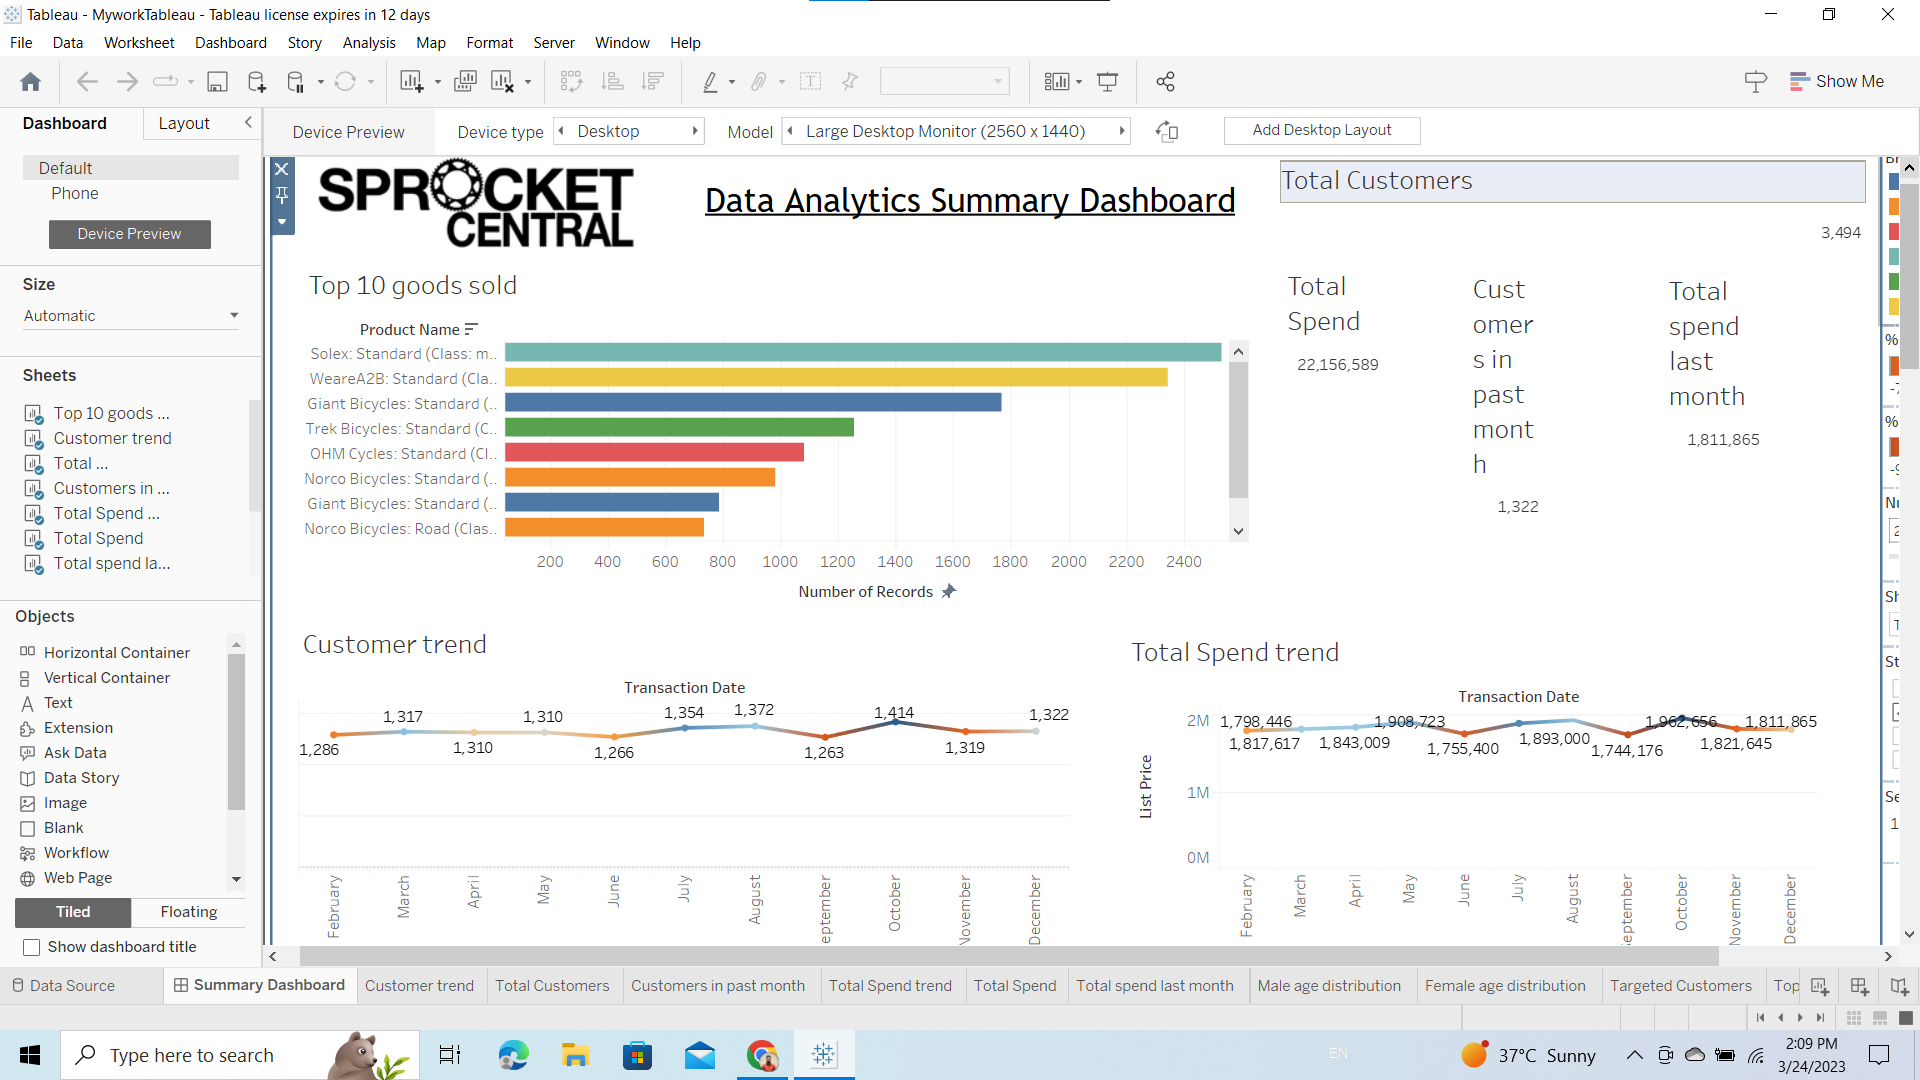

What the dashboard file says about the page in this screenshot:
{"tool":"tableau","page":{"name":"Summary Dashboard ","canvas":[1000,1000],"units":"permille","ordinal":0},"visuals":[{"type":"legend","title":"Top 10 goods sold","param":"[federated.0b8fx230w2iywy1fb0fl81et8j25].[none:brand:nk]","box":[898.6,3.1,95.8,57]},{"type":"image","param":"Image/Logo.png","box":[2.8,7,240.3,31.6]},{"type":"text","box":[241,7.4,304.9,28.1]},{"type":"worksheet","title":"Total Customers","mark":"Automatic","box":[565.3,9,325.7,29.7]},{"type":"worksheet","title":"Top 10 goods sold","mark":"Automatic","rows":["Calculation_1096345041807486976"],"cols":["Calculation_1096345041808896001"],"box":[22.9,40.6,525,109]},{"type":"worksheet","title":"Total Spend","mark":"Automatic","box":[566.7,41,72.9,39.5]},{"type":"worksheet","title":"Customers in past month","mark":"Automatic","box":[669.4,41.8,72.9,83.6]},{"type":"worksheet","title":"Total spend last month","mark":"Automatic","box":[778.5,42.6,108.3,57.4]},{"type":"legend","title":"Customer trend","param":"[federated.0b8fx230w2iywy1fb0fl81et8j25].[pcdf:ctd:customer_id:qk]","box":[898.6,60.2,95.8,25.4]},{"type":"legend","title":"Total Spend trend","param":"[federated.0b8fx230w2iywy1fb0fl81et8j25].[pcdf:sum:list_price:qk]","box":[898.6,85.6,95.8,25.4]},{"type":"parameter","param":"[Parameters].[Parameter 1]","box":[898.6,111,95.8,29.3]},{"type":"parameter","param":"[Parameters].[Parameter 2]","box":[898.6,140.3,95.8,20.3]},{"type":"worksheet","title":"Customer trend","mark":"Automatic","rows":["customer_id"],"cols":["transaction_date"],"box":[19.4,152.7,429.2,109]},{"type":"worksheet","title":"Total Spend trend","mark":"Automatic","rows":["list_price"],"cols":["transaction_date"],"box":[479.9,155.5,384,105.9]},{"type":"filter","title":"Top 200 Customers","param":"[federated.19oe7wk0t6gprl10ehwv41d5xbuw].[none:state:nk]","box":[898.6,160.6,95.8,42.2]},{"type":"legend","title":"Top 200 Customers","param":"[federated.19oe7wk0t6gprl10ehwv41d5xbuw].[usr:Calculation_1096345041929342988:qk","box":[898.6,202.8,95.8,25.4]},{"type":"worksheet","title":"Male age distribution","mark":"Automatic","cols":["customer_id"],"box":[18.1,271.9,415.3,111.7]},{"type":"worksheet","title":"Female age distribution","mark":"Automatic","cols":["customer_id"],"box":[471.5,272.7,407.6,100]},{"type":"worksheet","title":"Targeted Customers","mark":"Automatic","rows":["Calculation_1096345041926721544","job_title","address","postcode","state"],"cols":["Calculation_1096345041927561227"],"box":[13.9,388.7,500.7,210.6]},{"type":"worksheet","title":"Top 200 Customers","mark":"Automatic","box":[520.8,405.1,377.8,193.8]}]}

Visuals, with their boxes on the dashboard's canvas, which has no fixed pixel size, in thousandths of its width and height (x1, y1, x2, y2). These are canvas units, not pixel positions in the 1920x1080 screenshot, which may show the page scaled, cropped or inside an application window:
"Top 10 goods sold" legend: 899, 3, 994, 60
image: 3, 7, 243, 39
text: 241, 7, 546, 36
"Total Customers" worksheet: 565, 9, 891, 39
"Top 10 goods sold" worksheet: 23, 41, 548, 150
"Total Spend" worksheet: 567, 41, 640, 80
"Customers in past month" worksheet: 669, 42, 742, 125
"Total spend last month" worksheet: 778, 43, 887, 100
"Customer trend" legend: 899, 60, 994, 86
"Total Spend trend" legend: 899, 86, 994, 111
parameter: 899, 111, 994, 140
parameter: 899, 140, 994, 161
"Customer trend" worksheet: 19, 153, 449, 262
"Total Spend trend" worksheet: 480, 156, 864, 261
"Top 200 Customers" filter: 899, 161, 994, 203
"Top 200 Customers" legend: 899, 203, 994, 228
"Male age distribution" worksheet: 18, 272, 433, 384
"Female age distribution" worksheet: 472, 273, 879, 373
"Targeted Customers" worksheet: 14, 389, 515, 599
"Top 200 Customers" worksheet: 521, 405, 899, 599
